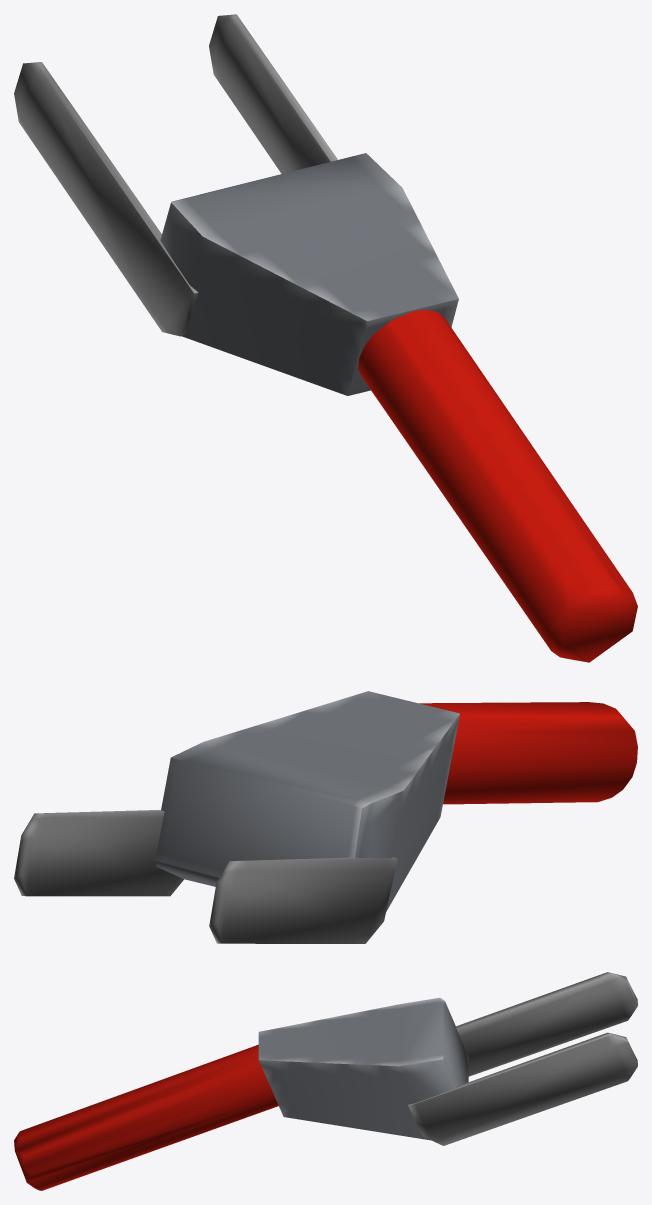
The model's file is handle_right.obj.
The picture shows the model from 3 angles, top to bottom: view 1: azimuth 30°, elevation 25°; view 2: azimuth 150°, elevation 25°; view 3: azimuth 270°, elevation 25°; orthographic projection. The views are drawn at different scales.
Parts seen in each view (by area): view 1: 8.Console_Front_Big_Handle_Right; view 2: 8.Console_Front_Big_Handle_Right; view 3: 8.Console_Front_Big_Handle_Right.
Part boxes in pixels (bbox=[...]): 8.Console_Front_Big_Handle_Right: bbox=[14, 14, 637, 662]; 8.Console_Front_Big_Handle_Right: bbox=[14, 691, 637, 943]; 8.Console_Front_Big_Handle_Right: bbox=[14, 972, 637, 1190].
Bounding box in the file's own units: 0.0553 × 0.0759 × 0.2318.
Materials: 1 (1 with a texture image).
